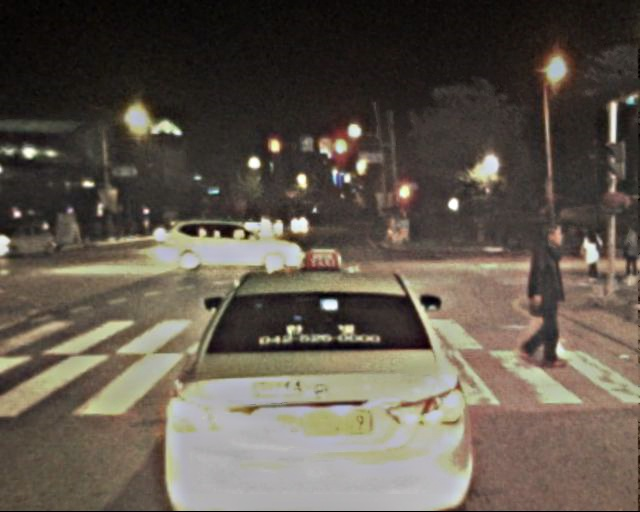person: (515, 223, 573, 365), (578, 225, 605, 291), (616, 224, 640, 283)
